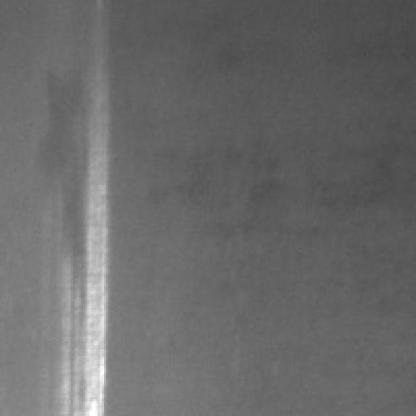scratches: (56, 89, 106, 412)
